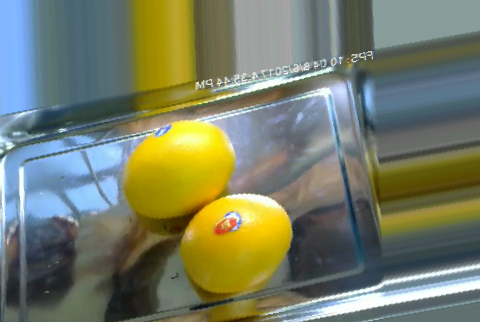Orange: (181, 193, 294, 294), (124, 120, 235, 219)
